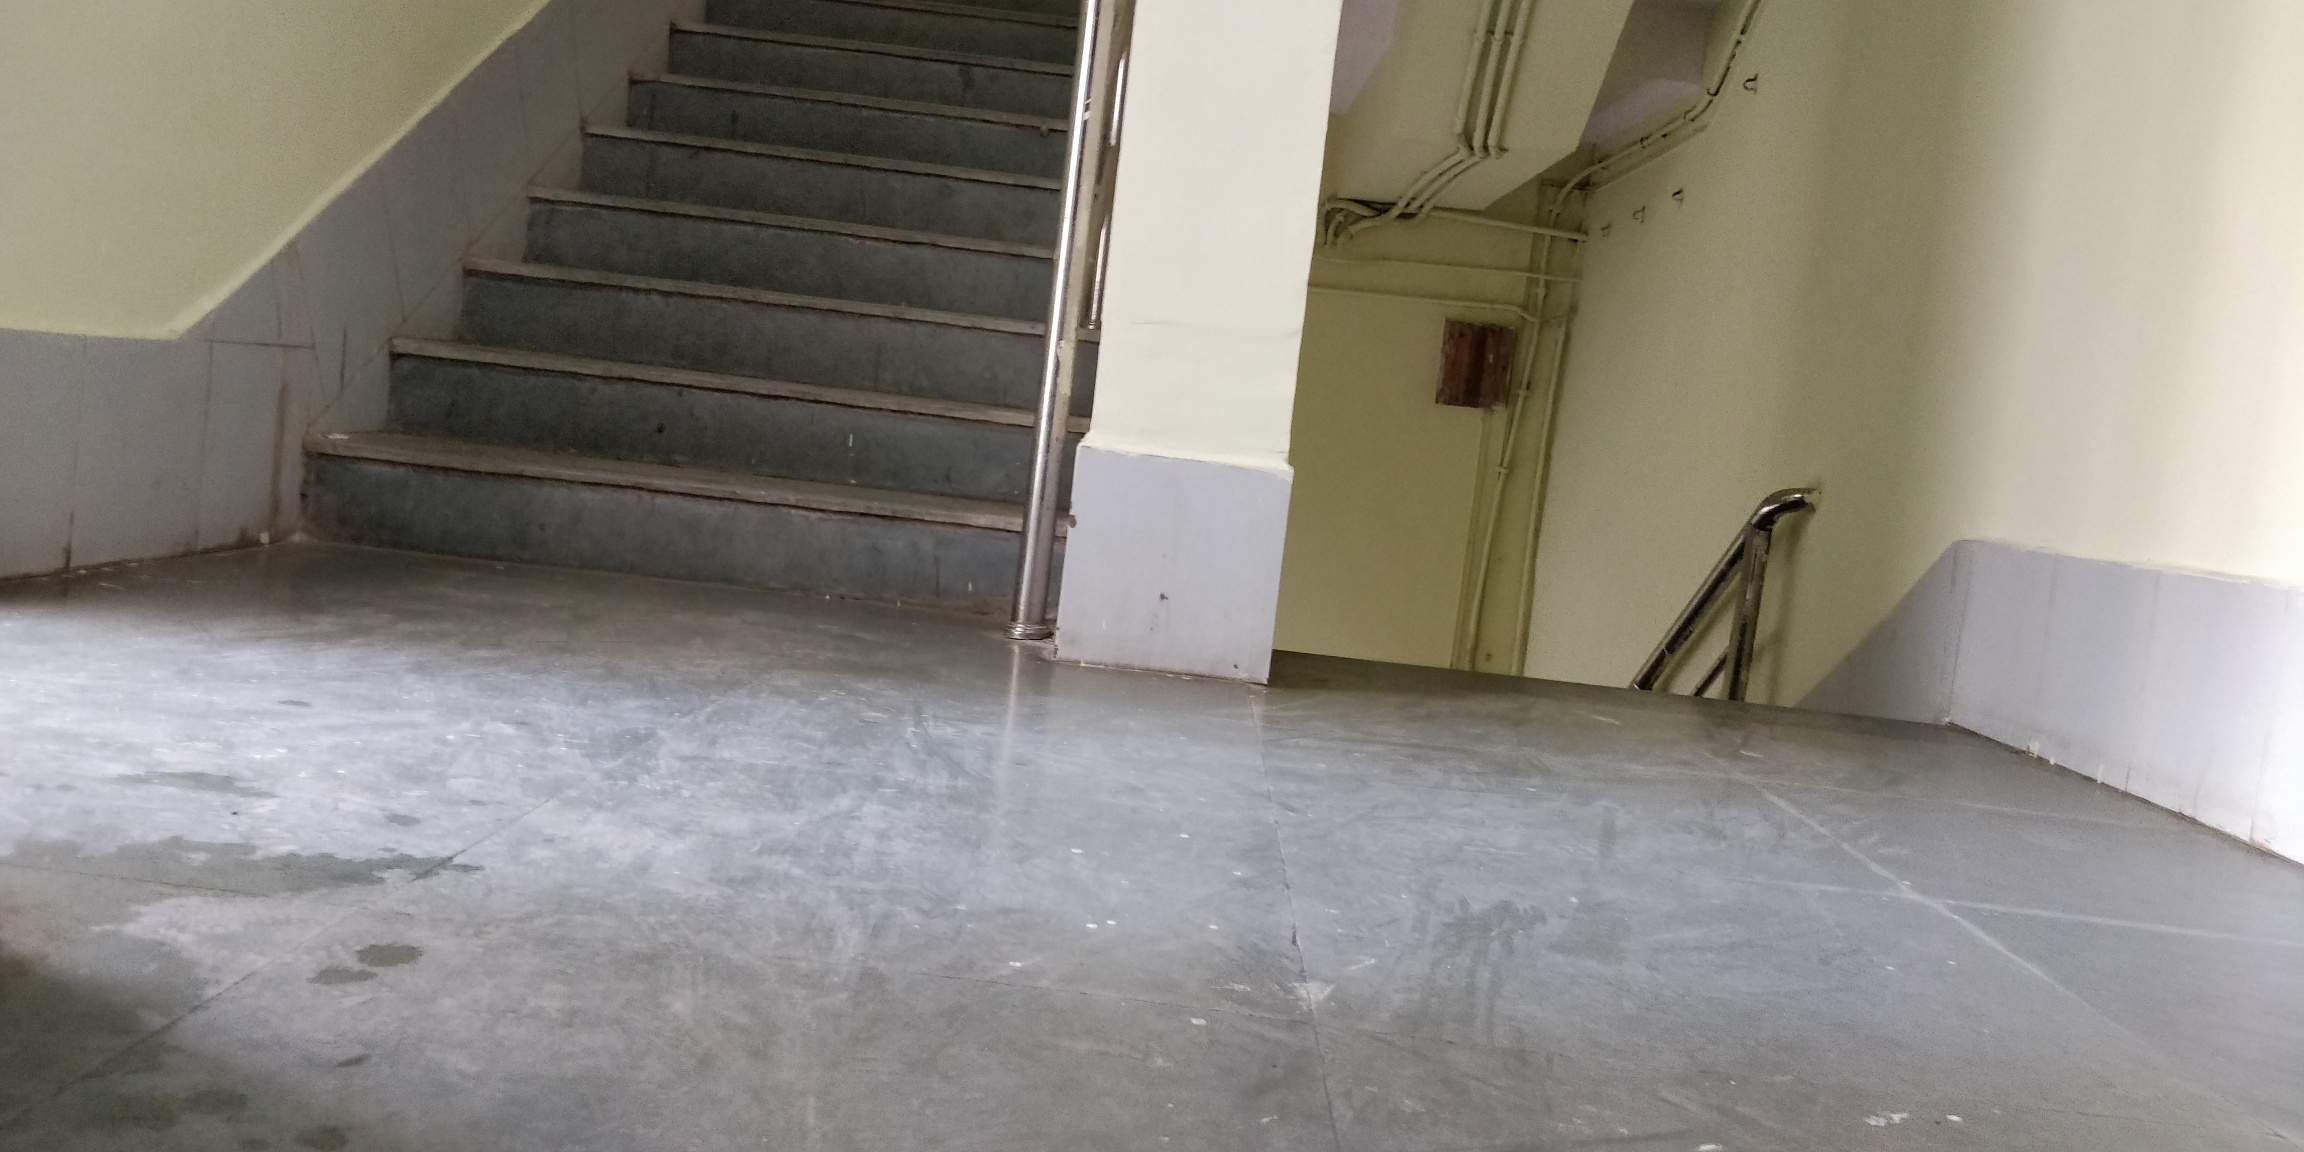stairs_up: (295, 12, 1127, 624)
